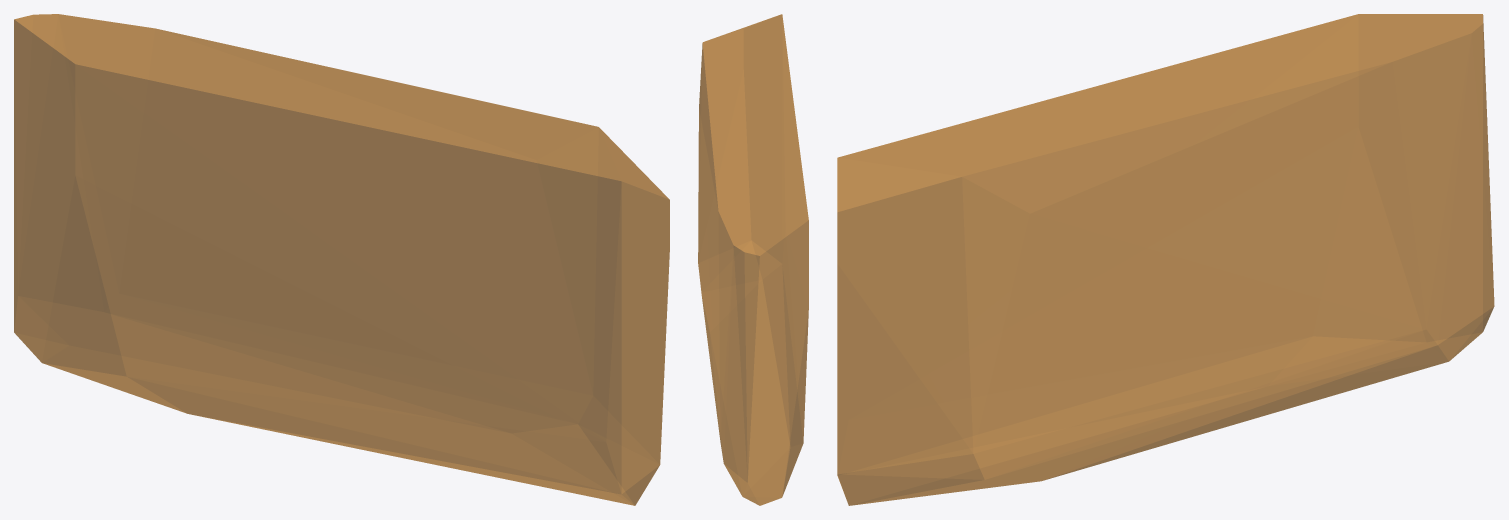
The picture shows the model from 3 angles, left to right: view 1: azimuth 30°, elevation 25°; view 2: azimuth 150°, elevation 25°; view 3: azimuth 270°, elevation 25°; orthographic projection. The views are drawn at different scales.
Visible parts, largest first — view 1: Shape_IndexedFaceSet.011_Shape_IndexedFaceSet.16413; view 2: Shape_IndexedFaceSet.011_Shape_IndexedFaceSet.16413; view 3: Shape_IndexedFaceSet.011_Shape_IndexedFaceSet.16413.
Boxes of the visible parts, x1,y1,x2,y2 form: Shape_IndexedFaceSet.011_Shape_IndexedFaceSet.16413: [14, 14, 669, 505]; Shape_IndexedFaceSet.011_Shape_IndexedFaceSet.16413: [698, 14, 808, 505]; Shape_IndexedFaceSet.011_Shape_IndexedFaceSet.16413: [837, 14, 1494, 505].
Bounding box in the file's own units: 0.00804 × 0.00758 × 0.0133.
